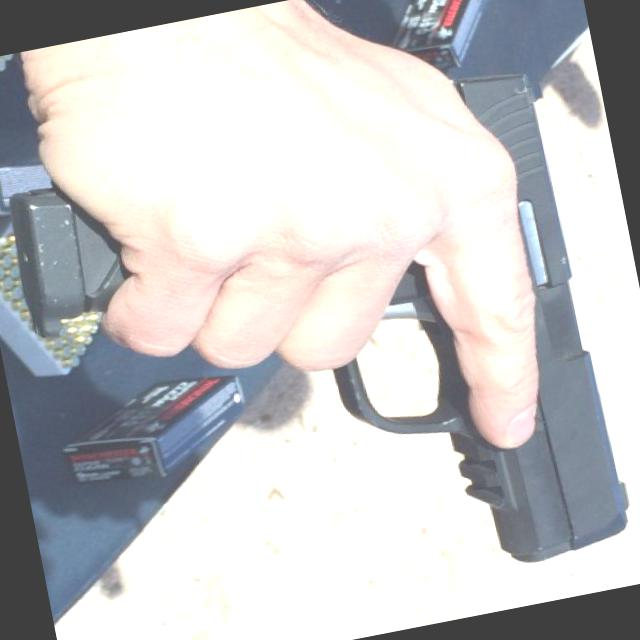handgun: (2, 57, 639, 639)
